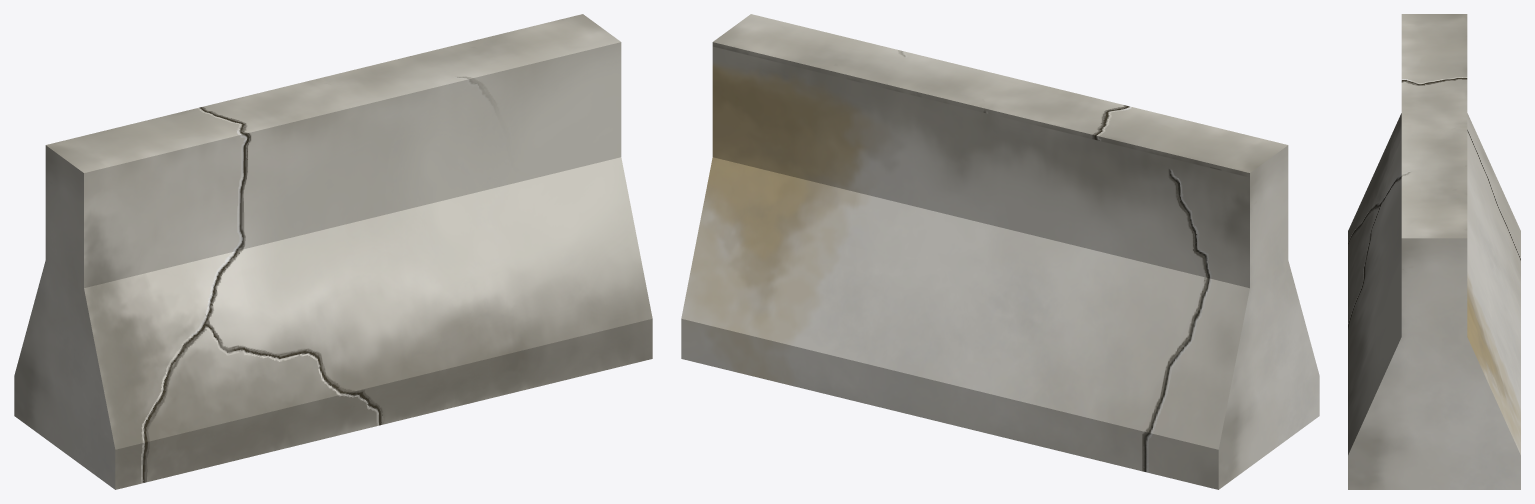
Rendered from Bareira.fbx.
The picture shows the model from 3 angles, left to right: view 1: azimuth 30°, elevation 25°; view 2: azimuth 150°, elevation 25°; view 3: azimuth 270°, elevation 25°; orthographic projection. The views are drawn at different scales.
Visible parts, largest first — view 1: Bareira; view 2: Bareira; view 3: Bareira.
Boxes of the visible parts, x1=… form: Bareira: x1=14, y1=14, x2=652, y2=489; Bareira: x1=681, y1=14, x2=1319, y2=489; Bareira: x1=1348, y1=14, x2=1520, y2=489.
Bounding box in the file's own units: 258 × 135 × 84.17.
